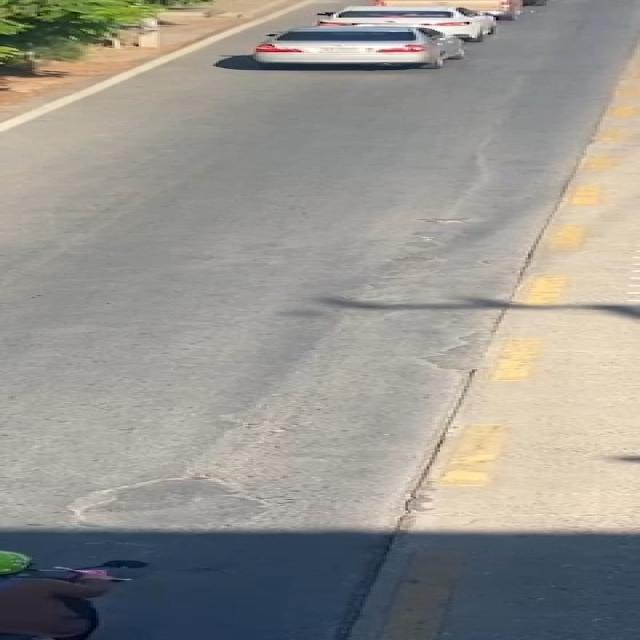car: (236, 22, 488, 71), (290, 3, 526, 43)
